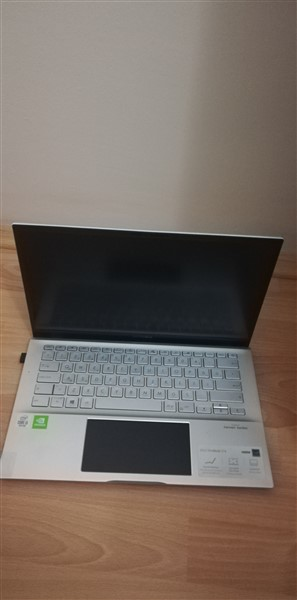laptop: (2, 216, 284, 498)
